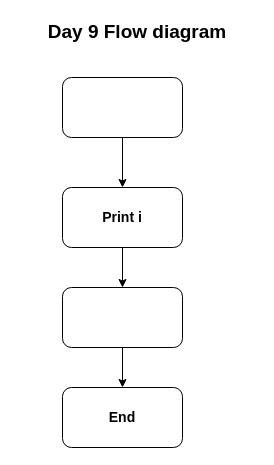
Some shapes in this 274 by 465 pixel diagram are drawn without their labels. The shapes that lost their labels are listed below. From the top down, each one's centre as x and y in pixels, then its label:
At point (122, 107): "Start: For i in range".
At point (122, 317): "Next item in range".
